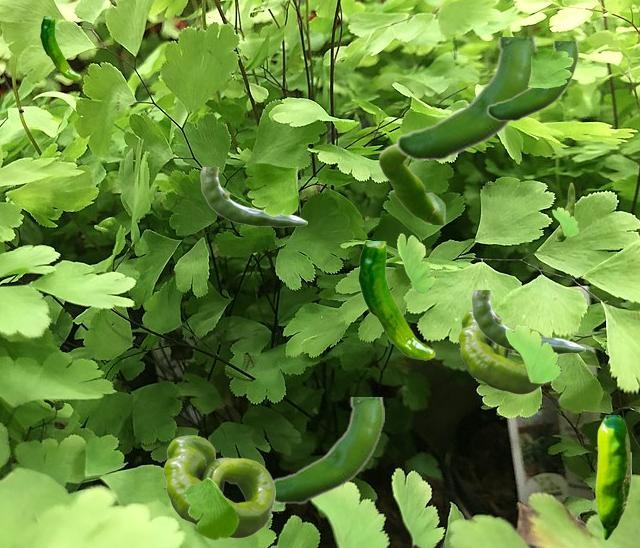green_chili: (395, 37, 536, 161), (273, 397, 383, 504), (163, 435, 274, 537), (358, 241, 434, 359), (458, 309, 545, 393), (486, 41, 577, 121), (471, 290, 584, 353), (200, 167, 306, 226), (378, 142, 444, 223), (595, 415, 630, 539), (40, 16, 80, 79), (555, 182, 574, 240)
